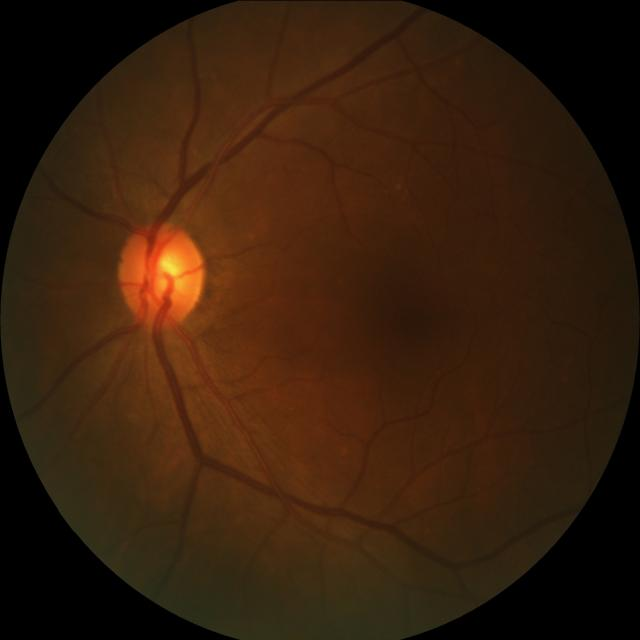OC: (140, 245, 186, 302)
OD: (119, 222, 207, 325)
